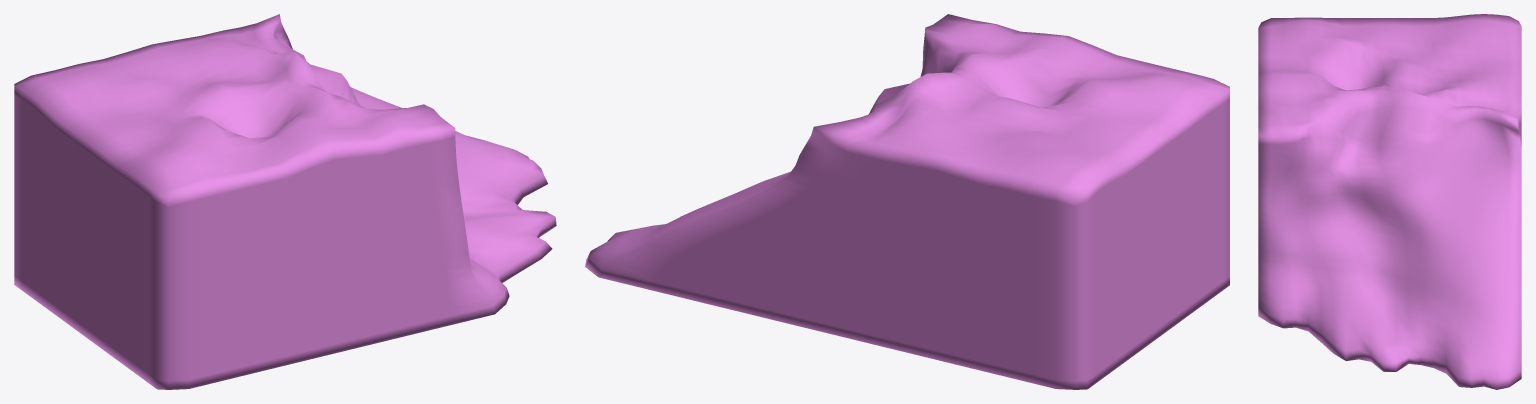
The model's file is fresa_casi_lleno.fbx.
3 renders of one model, left to right at view 1: azimuth 30°, elevation 25°; view 2: azimuth 150°, elevation 25°; view 3: azimuth 270°, elevation 25°, orthographic. The views are drawn at different scales.
Visible parts, largest first — view 1: Fresa_Casi_Lleno; view 2: Fresa_Casi_Lleno; view 3: Fresa_Casi_Lleno.
Part boxes in pixels (x1,y1,x2,y2): Fresa_Casi_Lleno: [14, 14, 556, 389]; Fresa_Casi_Lleno: [585, 14, 1229, 389]; Fresa_Casi_Lleno: [1258, 14, 1521, 389].
Size of the model in its own units: 353 by 144 by 189.
